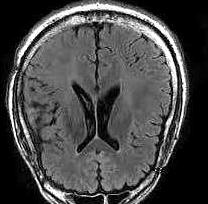Normal_Brain: (1, 1, 191, 204)
